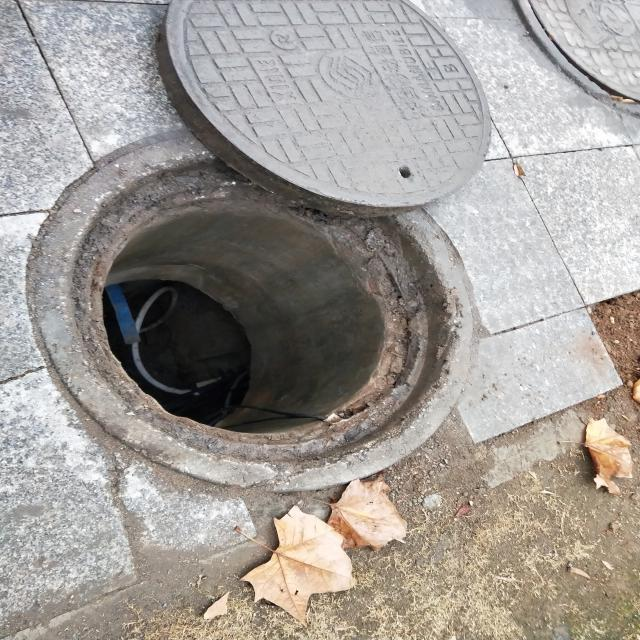Faulty: (19, 4, 491, 488)
